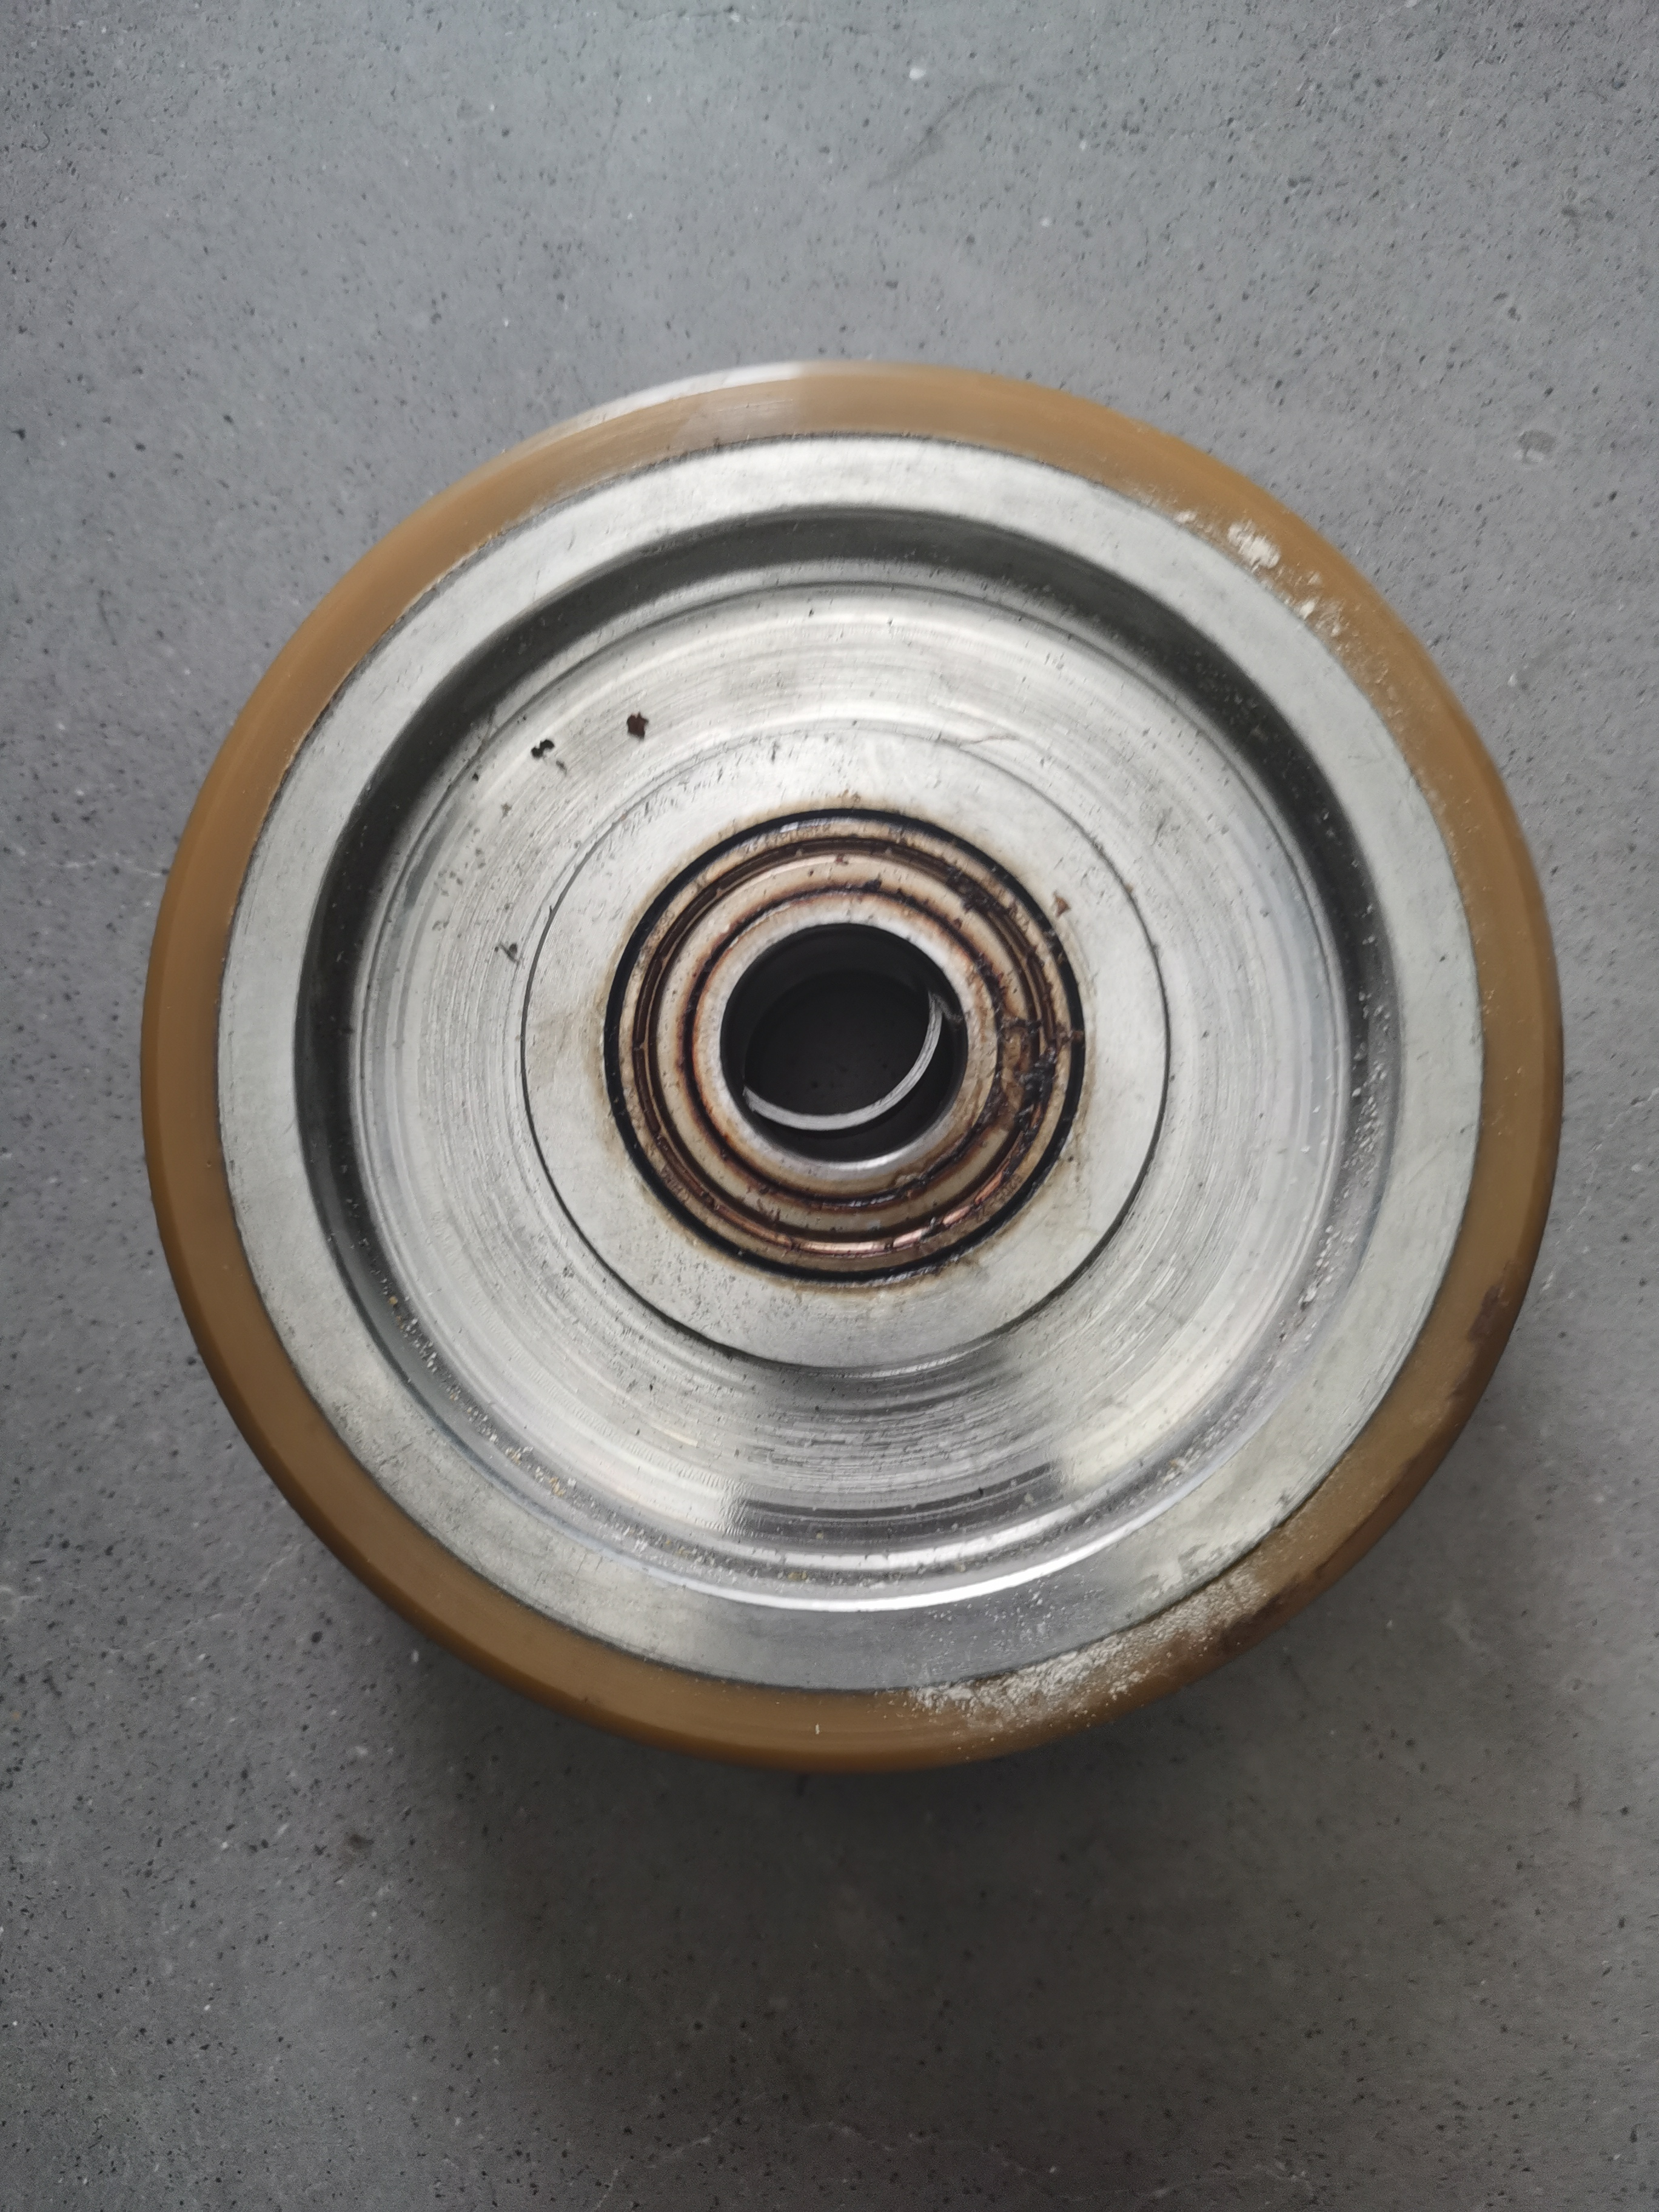bad_wheel: (857, 1613, 1216, 1761), (1185, 462, 1382, 669)
